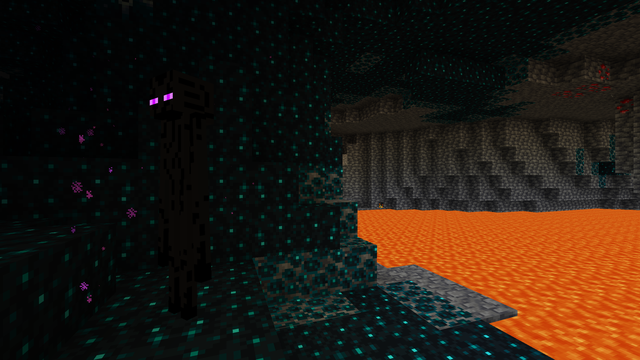endermens: (146, 59, 210, 331)
